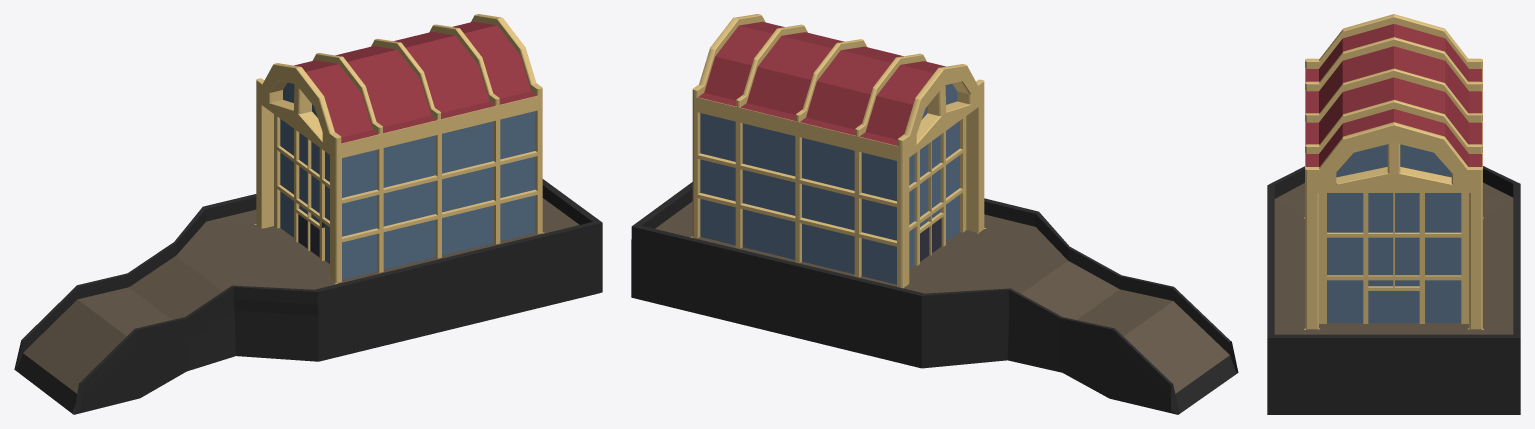
File: Evacuation_Center.fbx
3 renders of one model, left to right at view 1: azimuth 30°, elevation 25°; view 2: azimuth 150°, elevation 25°; view 3: azimuth 270°, elevation 25°, orthographic. The views are drawn at different scales.
Visible parts, largest first — view 1: Cube; view 2: Cube; view 3: Cube.
Part boxes in pixels (<box>): Cube: <box>14,14,602,414</box>; Cube: <box>631,14,1238,414</box>; Cube: <box>1267,14,1520,414</box>.
Bounding box in the file's own units: 36137 × 17801 × 14260.
